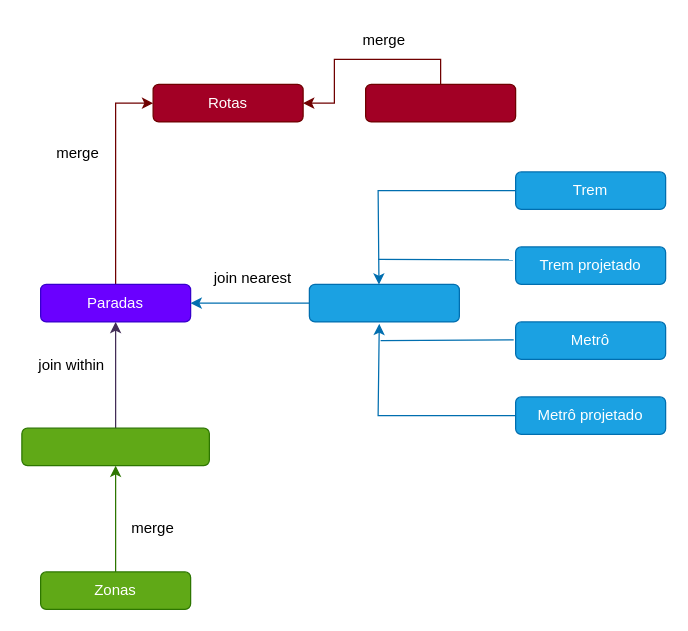
The diagram is 688 pixels wide and 631 high, and some of its shapes have lost their labels. The shapes that lost their labels are listed below. From the top down, each one's centre as x and y in pixels, then its label:
At (x=440, y=102): "Passageiros".
At (x=383, y=302): "Estações trem e metrô".
At (x=115, y=446): "População (censo 2022)".
